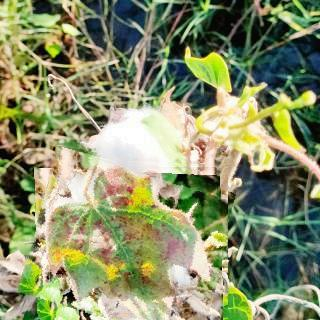curl: (25, 156, 228, 320)
